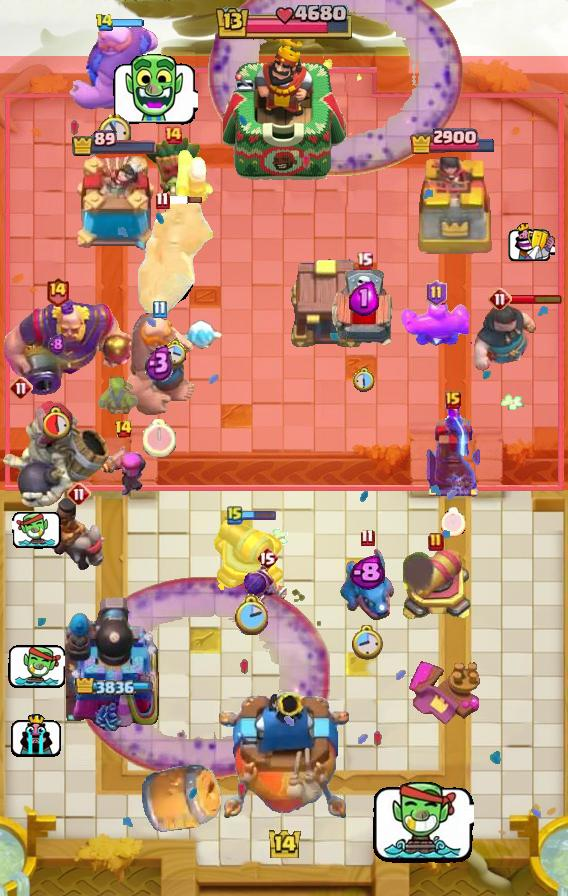balloon: (67, 20, 161, 112), (122, 309, 196, 417)
bat: (180, 319, 222, 355)
bomb: (285, 256, 365, 350)
clock: (213, 5, 355, 43)
dirt: (139, 764, 221, 836)
electro-giant: (0, 401, 114, 509)
electro-spirit: (349, 555, 385, 591), (146, 344, 174, 382), (349, 280, 379, 315), (48, 333, 66, 356)
elite-barbarian: (48, 496, 110, 572)
elixir: (233, 594, 268, 635), (143, 419, 177, 457), (97, 113, 130, 150), (351, 625, 383, 661), (44, 406, 73, 438), (442, 507, 467, 537), (163, 338, 188, 366), (352, 367, 375, 392)
elixir-golem-mid: (329, 268, 399, 354)
emote: (509, 293, 563, 305), (241, 511, 277, 522), (167, 195, 203, 205), (111, 18, 145, 28)
goblin-ball: (243, 561, 291, 615)
goblin-barrel: (144, 135, 202, 201)
graveyard: (338, 548, 396, 622)
ice-spirit-evolution-symbol: (423, 402, 483, 498)
king-tower: (219, 692, 349, 826), (223, 43, 345, 181)
lightning: (0, 299, 138, 395)
queen-tower: (68, 156, 160, 256), (410, 154, 496, 256)
rocket: (74, 576, 330, 780), (208, 0, 464, 176)
royal-hog: (473, 301, 563, 375)
royal-recruit: (214, 512, 286, 596), (400, 550, 472, 624)
selected: (409, 126, 497, 154), (70, 130, 157, 157), (74, 678, 154, 694)
skeleton: (372, 782, 474, 864), (111, 53, 198, 126), (7, 645, 65, 692), (10, 710, 62, 757), (11, 511, 60, 550), (509, 223, 556, 261)
text: (46, 277, 71, 308), (488, 287, 512, 311), (9, 376, 33, 400), (67, 482, 91, 506), (426, 280, 447, 306), (256, 546, 278, 570), (163, 125, 183, 145), (114, 419, 134, 439), (95, 13, 114, 32), (355, 251, 373, 270), (227, 505, 243, 525), (428, 532, 444, 552), (445, 391, 461, 409), (154, 190, 169, 209), (360, 528, 375, 547), (153, 301, 167, 319)
tombstone: (101, 443, 147, 499), (174, 147, 216, 205)
tornado: (400, 299, 472, 349)
tower-bar: (65, 593, 163, 731)
wizard: (137, 200, 213, 326)
zap: (96, 377, 140, 419)
